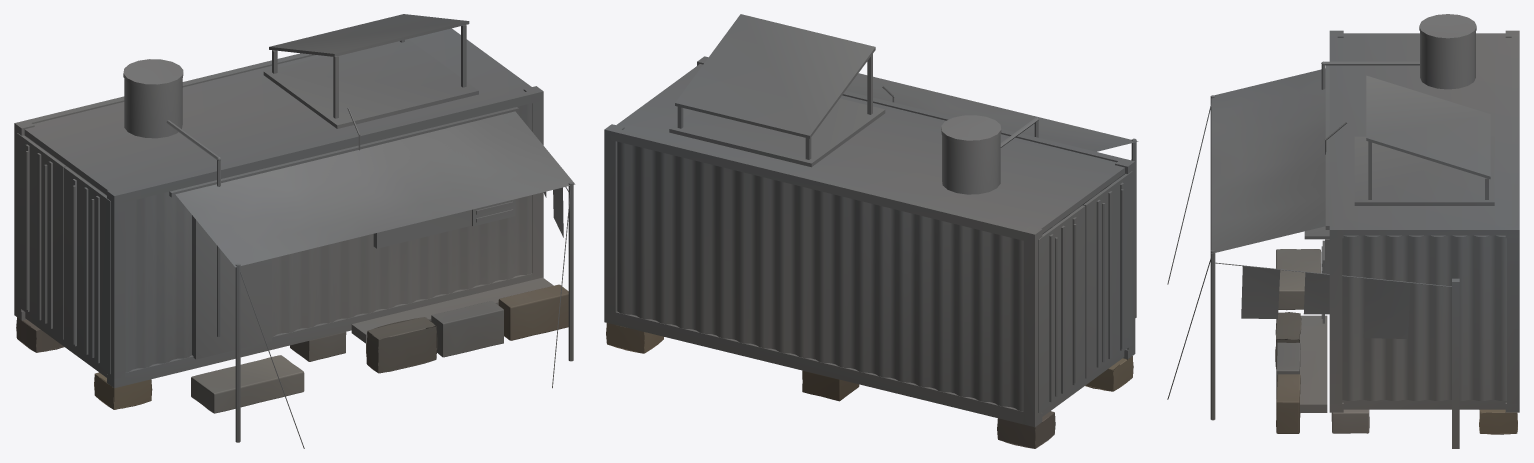
Rendered from WallHomeC_LOD0.glb.
3 renders of one model, left to right at view 1: azimuth 30°, elevation 25°; view 2: azimuth 150°, elevation 25°; view 3: azimuth 270°, elevation 25°, orthographic. The views are drawn at different scales.
Visible parts, largest first — view 1: WallHomeC_Metal_LOD0, WallHomeC_Canvas_LOD0, WallHomeC_Rubble_LOD0, WallHomeC_Sand_LOD0; view 2: WallHomeC_Metal_LOD0, WallHomeC_Canvas_LOD0, WallHomeC_Rubble_LOD0; view 3: WallHomeC_Metal_LOD0, WallHomeC_Canvas_LOD0, WallHomeC_Rubble_LOD0, WallHomeC_Sand_LOD0.
Boxes of the visible parts, x1,y1,x2,y2 form: WallHomeC_Metal_LOD0: (14,14,573,448); WallHomeC_Canvas_LOD0: (175,111,575,267); WallHomeC_Rubble_LOD0: (16,284,568,413); WallHomeC_Sand_LOD0: (351,277,553,343); WallHomeC_Metal_LOD0: (604,14,1136,427); WallHomeC_Canvas_LOD0: (846,73,1138,151); WallHomeC_Rubble_LOD0: (606,323,1133,448); WallHomeC_Metal_LOD0: (1167,14,1519,448); WallHomeC_Canvas_LOD0: (1211,68,1410,338); WallHomeC_Rubble_LOD0: (1275,249,1517,434); WallHomeC_Sand_LOD0: (1300,315,1327,412).
Size of the model in its own units: 6.56 by 3.85 by 4.53.
